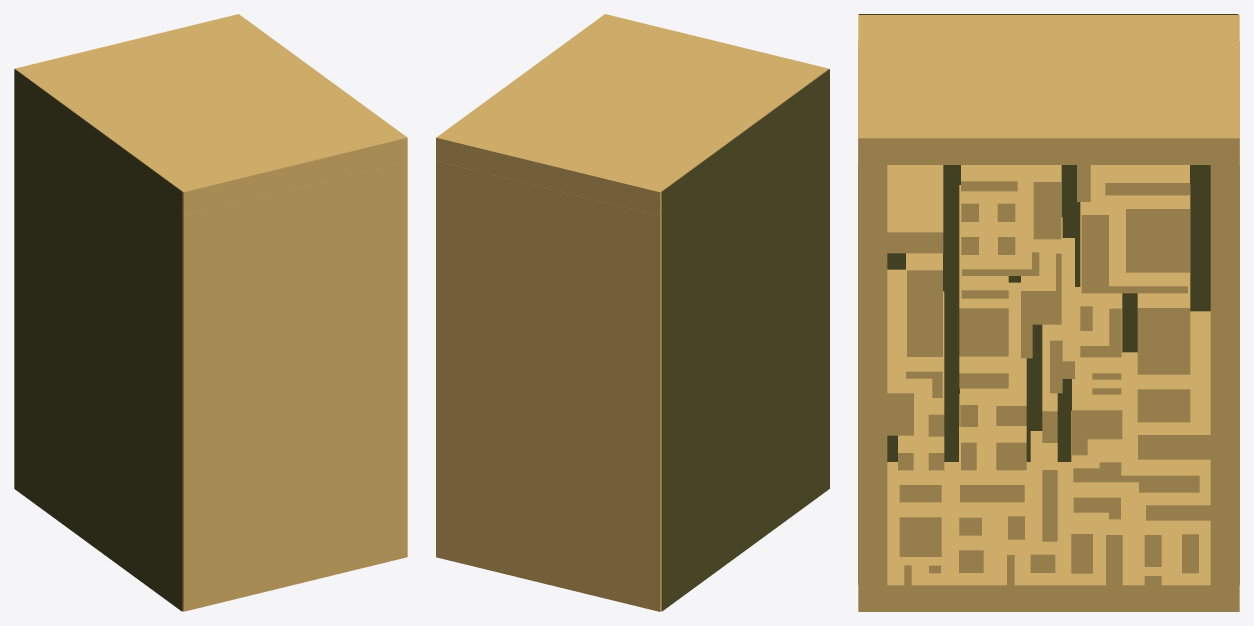
3 renders of one model, left to right at view 1: azimuth 30°, elevation 25°; view 2: azimuth 150°, elevation 25°; view 3: azimuth 270°, elevation 25°, orthographic. The views are drawn at different scales.
Parts seen in each view (by area): view 1: Cube, Plane; view 2: Cube, Plane; view 3: Cube, Plane.
Part boxes in pixels (<box>): Cube: <box>15,14,407,611</box>; Plane: <box>14,69,182,611</box>; Cube: <box>436,14,828,611</box>; Plane: <box>661,69,829,611</box>; Cube: <box>858,15,1239,611</box>; Plane: <box>858,14,1238,461</box>.
Size of the model in its own units: 201 by 358 by 261.
